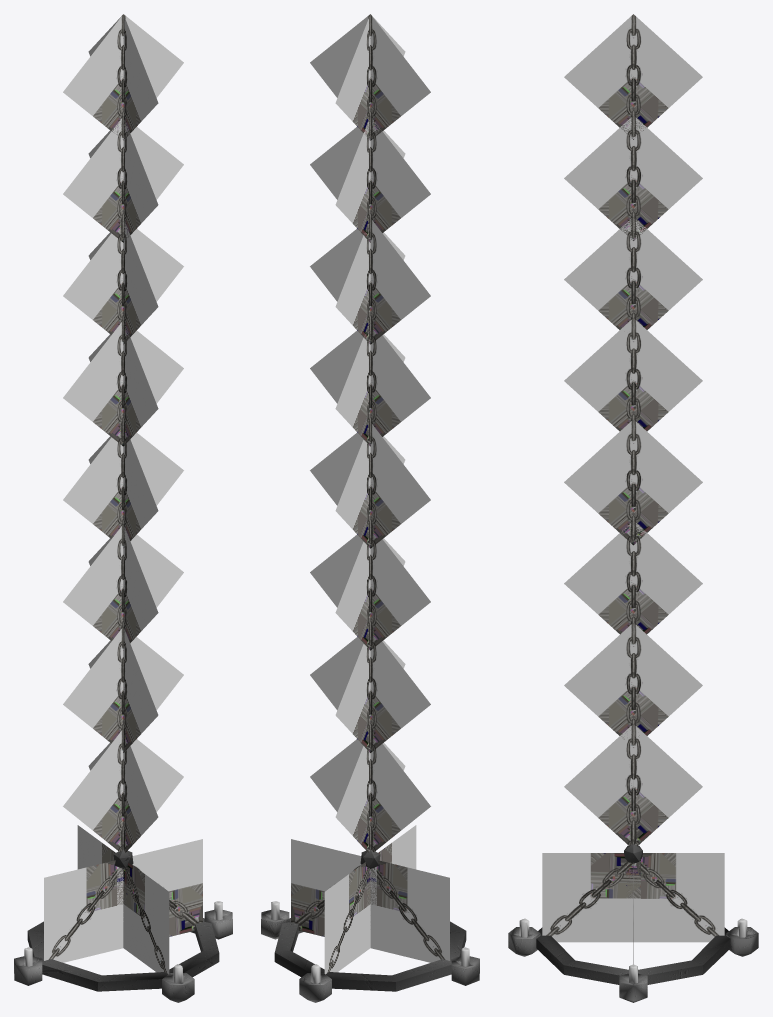
File: chandelier.fbx
3 renders of one model, left to right at view 1: azimuth 30°, elevation 25°; view 2: azimuth 150°, elevation 25°; view 3: azimuth 270°, elevation 25°, orthographic.
Visible parts, largest first — view 1: shared_chandelier_chain; view 2: shared_chandelier_chain; view 3: shared_chandelier_chain.
Boxes of the visible parts, left/top/right/bottom form: shared_chandelier_chain: left=14, top=14, right=232, bottom=1002; shared_chandelier_chain: left=261, top=14, right=479, bottom=1002; shared_chandelier_chain: left=508, top=14, right=758, bottom=1002.
Size of the model in its own units: 254 by 1056 by 254.
